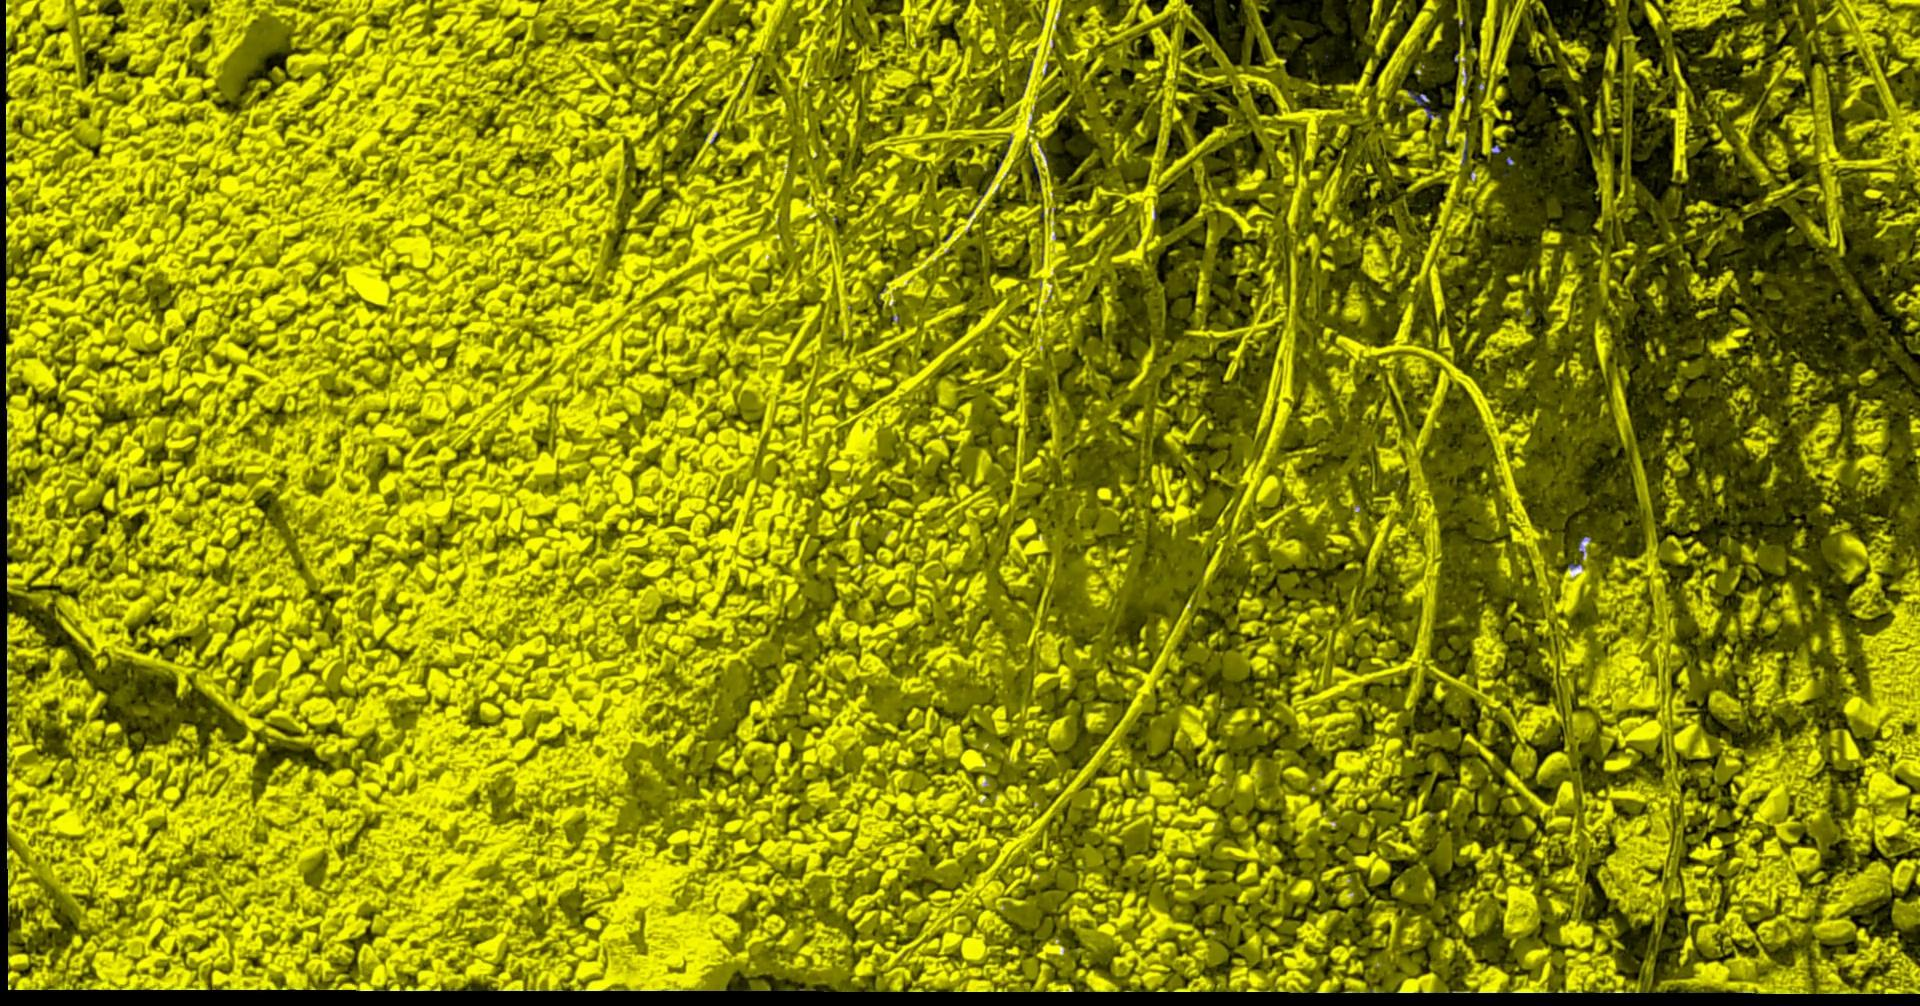ant: (1410, 90, 1443, 119)
